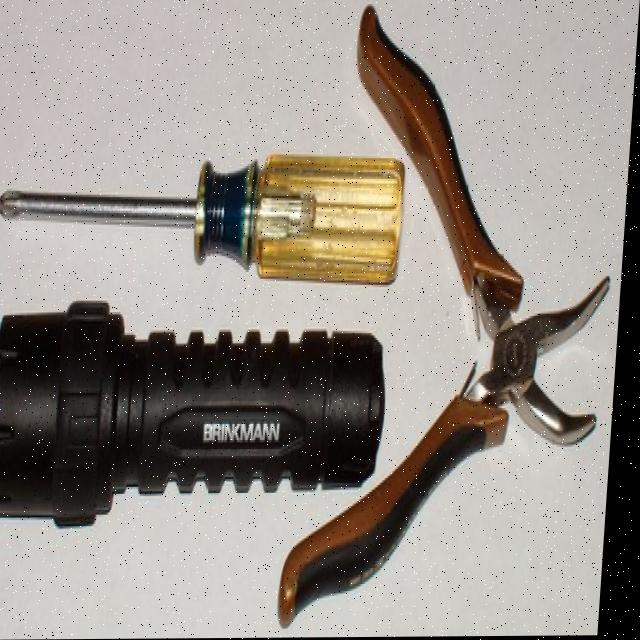Screwdriver: (0, 155, 407, 284)
